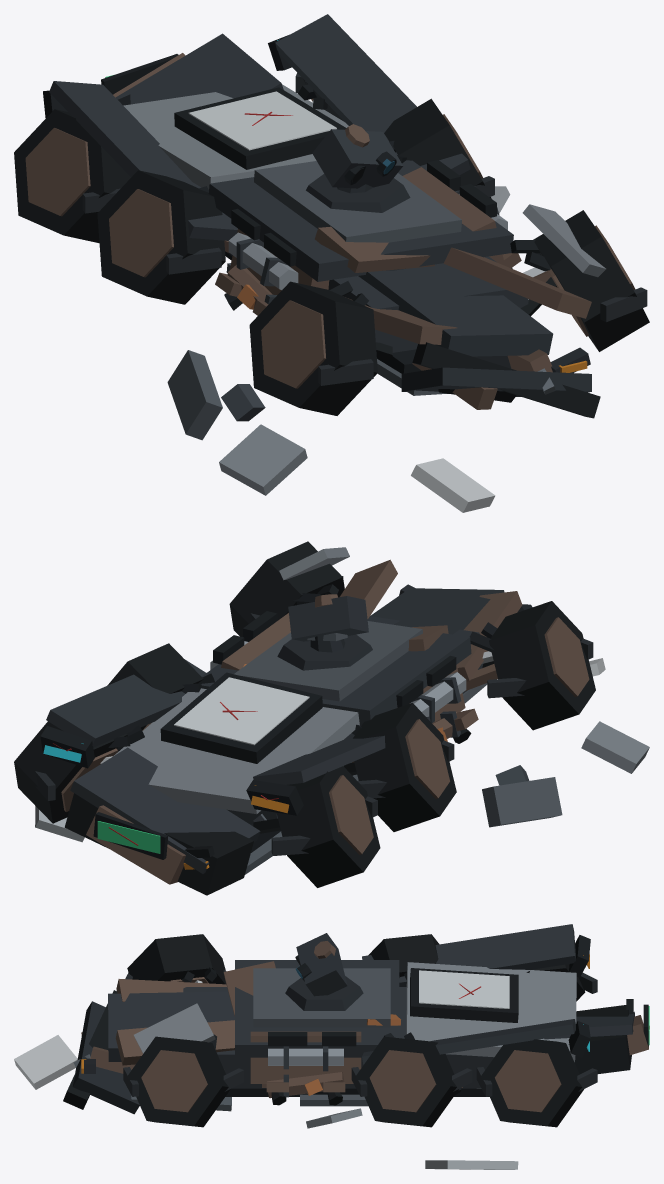
Rendered from r47x_recon_rover_d3_lod2.meshopt.glb.
The picture shows the model from 3 angles, top to bottom: view 1: azimuth 30°, elevation 25°; view 2: azimuth 150°, elevation 25°; view 3: azimuth 270°, elevation 25°; orthographic projection. The views are drawn at different scales.
Parts seen in each view (by area): view 1: ROVER_STATIC_BODY; view 2: ROVER_STATIC_BODY; view 3: ROVER_STATIC_BODY.
Part boxes in pixels (x1,y1,x2,y2): ROVER_STATIC_BODY: (14, 14, 649, 512); ROVER_STATIC_BODY: (14, 541, 649, 895); ROVER_STATIC_BODY: (14, 924, 649, 1169).
Bounding box in the file's own units: 3.35 × 1.58 × 5.18.
